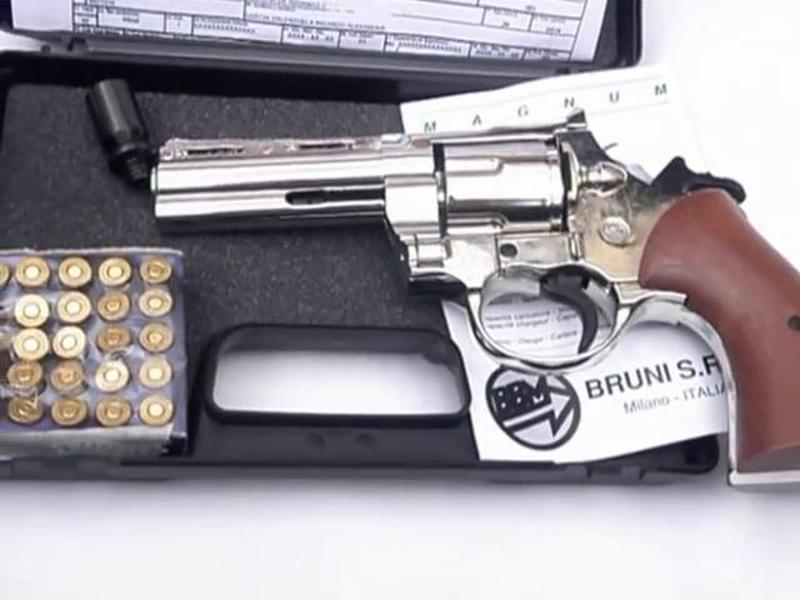Revolver: (143, 67, 800, 381)
